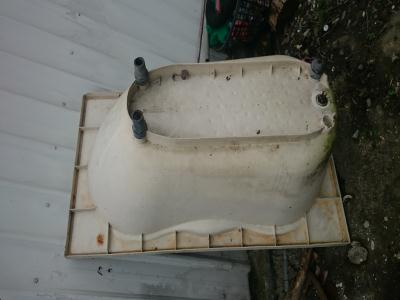tub: (60, 51, 354, 260)
